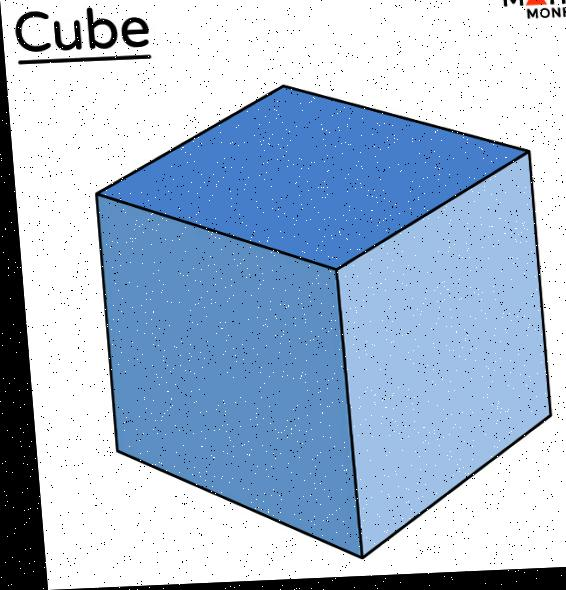cube: (66, 78, 566, 577)
